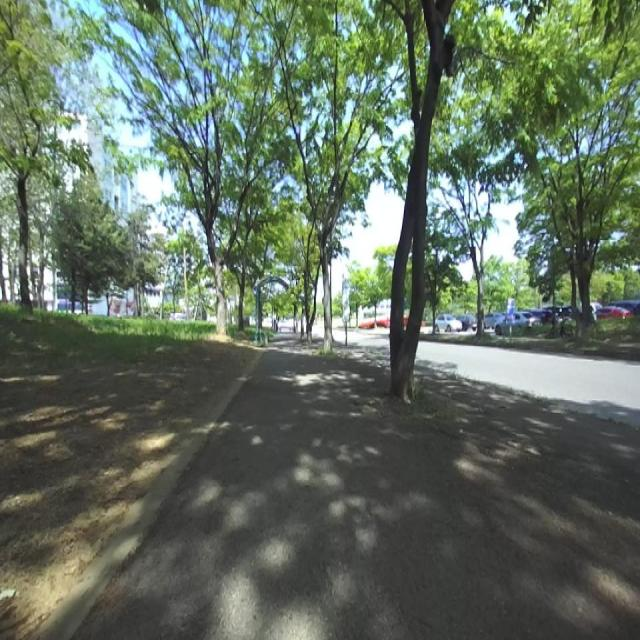sidewalk: (77, 338, 640, 640)
